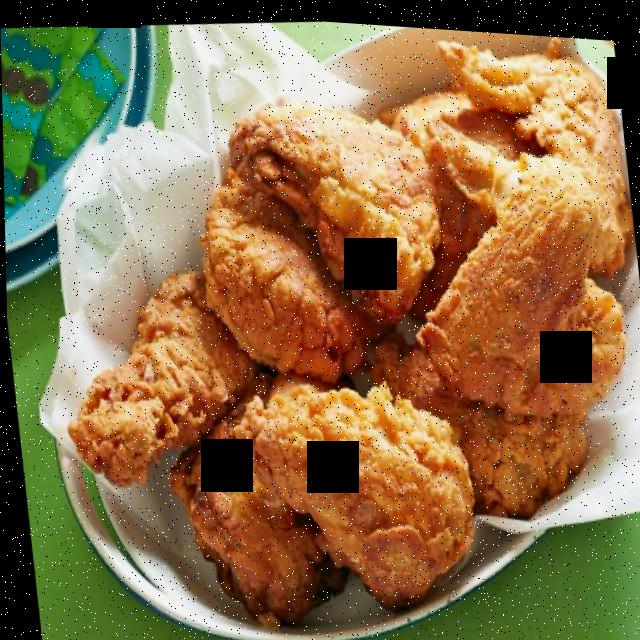Frango: (22, 1, 640, 640)
